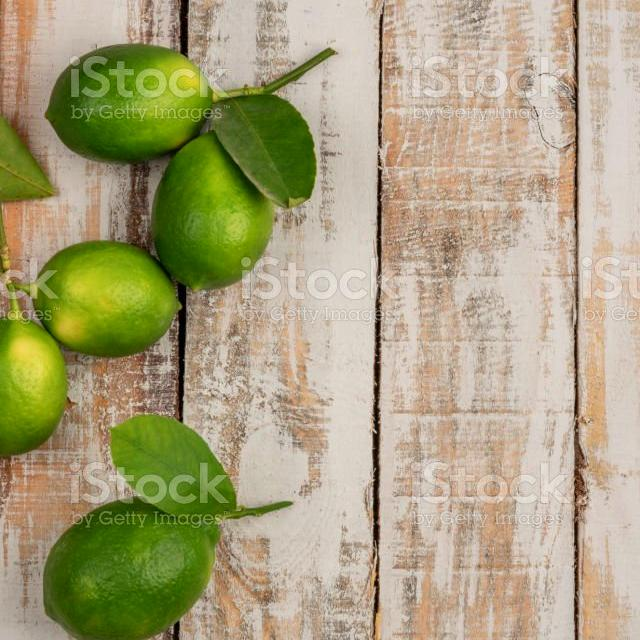lime: (32, 480, 225, 640), (145, 122, 296, 293), (37, 33, 224, 166), (21, 233, 192, 364), (0, 301, 78, 463)
